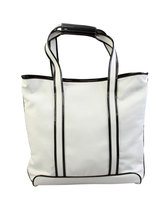bag: (14, 22, 149, 186)
